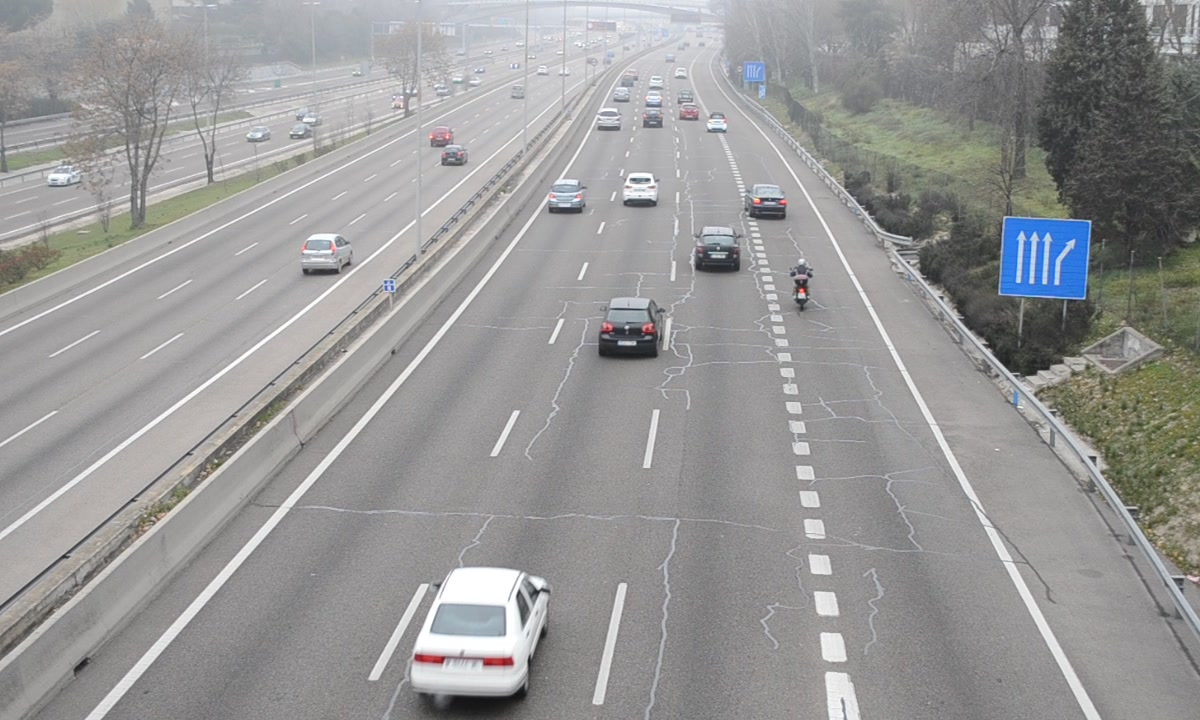car: (407, 566, 551, 691), (600, 296, 664, 357), (693, 227, 740, 270), (745, 182, 788, 220), (546, 178, 587, 216), (622, 173, 661, 207), (597, 105, 620, 129)
motorcycle: (790, 257, 814, 314)
